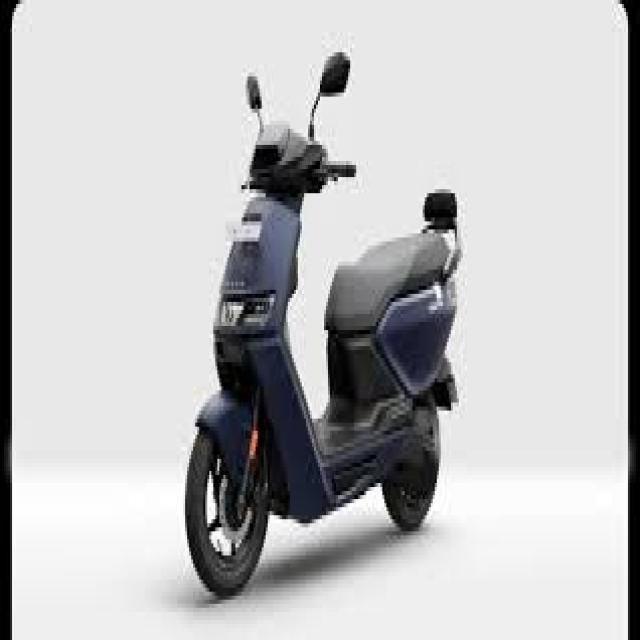objects: (165, 42, 472, 604)
